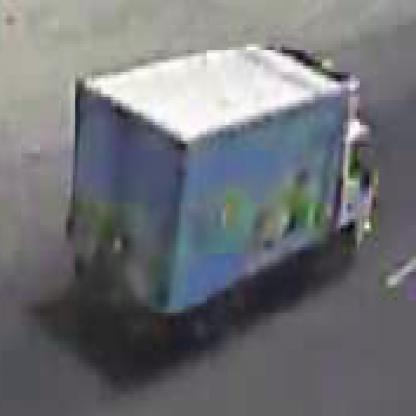truck: (74, 51, 375, 317)
